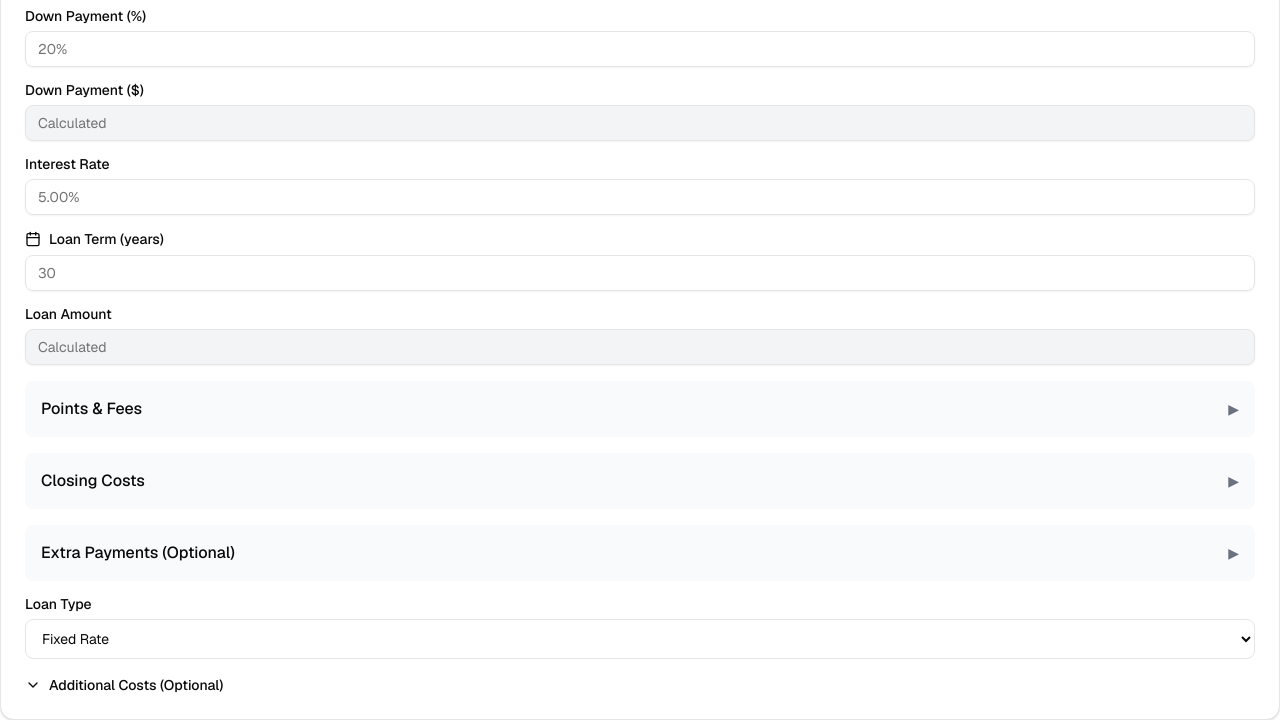
Test: LoanInputForm › renders optional input fields when collapsible is expanded
(page scrolled)
Expected: the field labelled "annual property tax" is not shown
# Click to expand optional fields
Click the button "Additional Costs (Optional)" at (124,685), box [25,675,223,695]
(page scrolled)
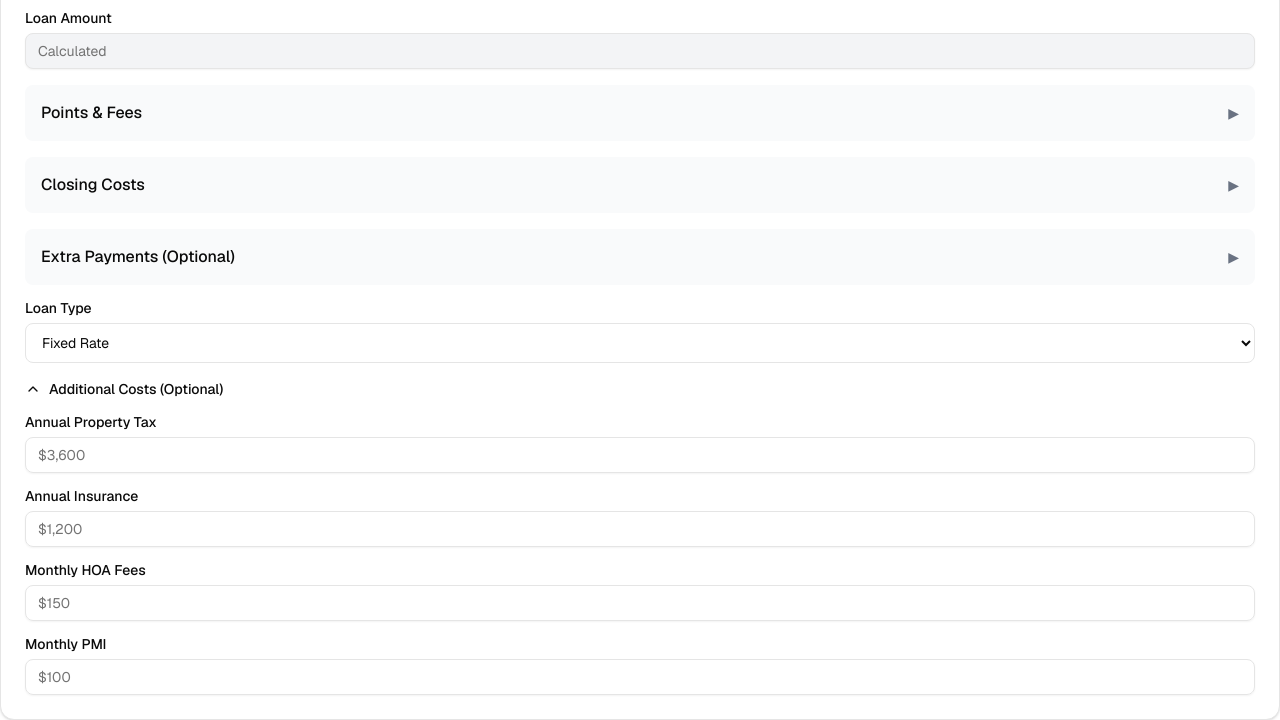
Now the field labelled "Annual Property Tax" is shown, box [25,437,1255,473]
Now the field labelled "Annual Insurance" is shown, box [25,511,1255,547]
Now the field labelled "Monthly HOA Fees" is shown, box [25,585,1255,621]
